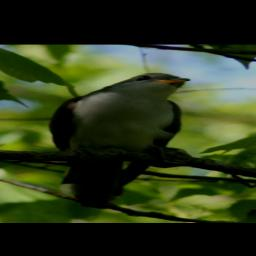Cuckoo: (47, 72, 192, 208)
